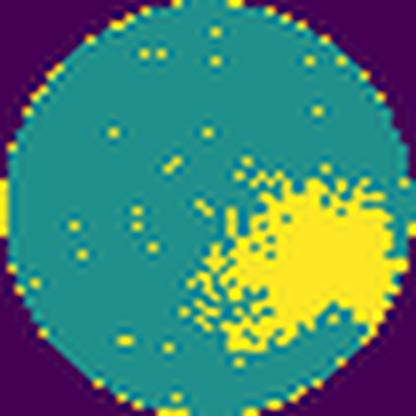Edge-Loc: (222, 173, 408, 353)
